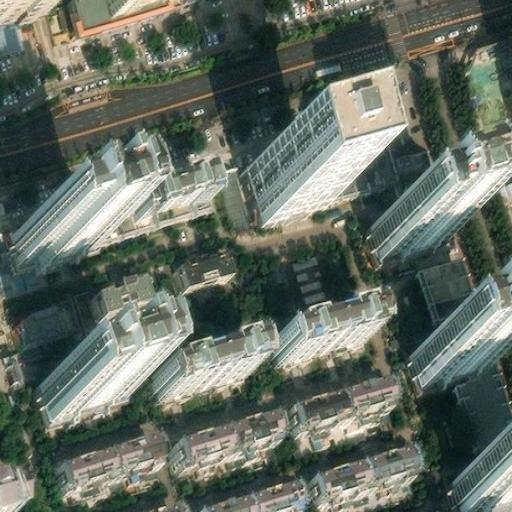building: (419, 251, 512, 455), (306, 122, 442, 200), (78, 184, 220, 245), (169, 405, 279, 467), (307, 441, 412, 498), (48, 349, 140, 414), (241, 144, 322, 217), (289, 372, 393, 428), (53, 432, 157, 486), (154, 334, 253, 389), (273, 299, 369, 354), (13, 195, 96, 256), (412, 313, 495, 373), (369, 189, 451, 247), (128, 157, 215, 208), (450, 439, 512, 505), (195, 479, 295, 512), (97, 263, 157, 307), (18, 298, 73, 342), (178, 240, 235, 279), (74, 287, 101, 334), (0, 473, 22, 511), (0, 0, 48, 14)
